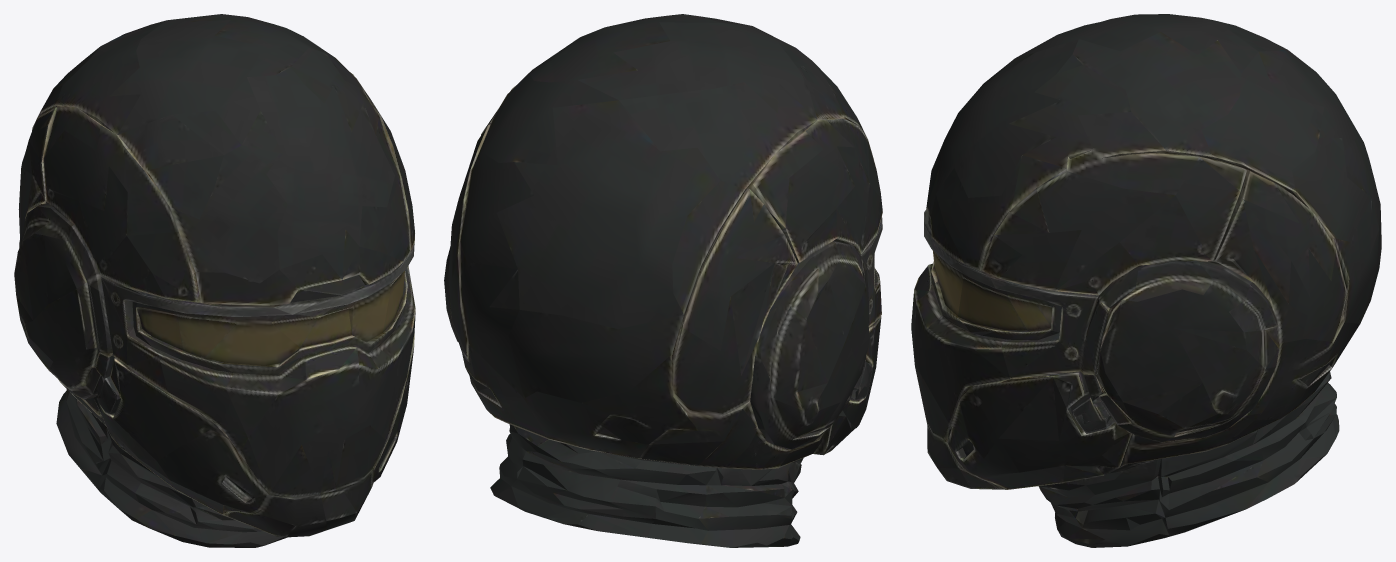
Rendered from banked-helmet.glb.
The picture shows the model from 3 angles, left to right: view 1: azimuth 30°, elevation 25°; view 2: azimuth 150°, elevation 25°; view 3: azimuth 270°, elevation 25°; orthographic projection. The views are drawn at different scales.
Visible parts, largest first — view 1: Mesh_0; view 2: Mesh_0; view 3: Mesh_0.
Part boxes in pixels (<box>): Mesh_0: <box>14,14,415,547</box>; Mesh_0: <box>444,14,882,547</box>; Mesh_0: <box>911,14,1381,547</box>.
Bounding box in the file's own units: 0.228 × 0.31 × 0.271.
1 material, 1 textured.
